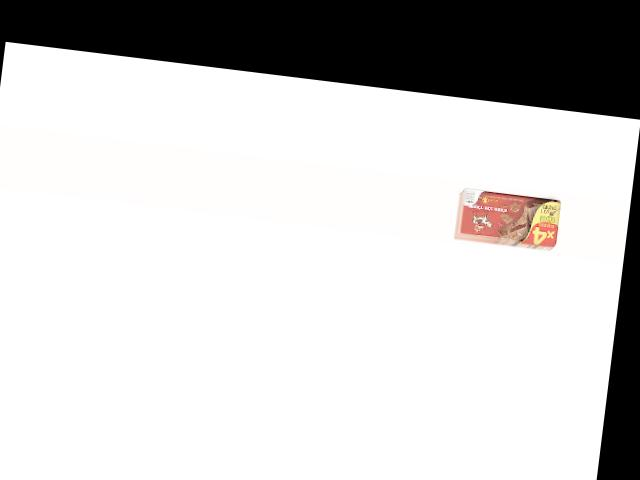chocolate: (455, 185, 563, 251)
